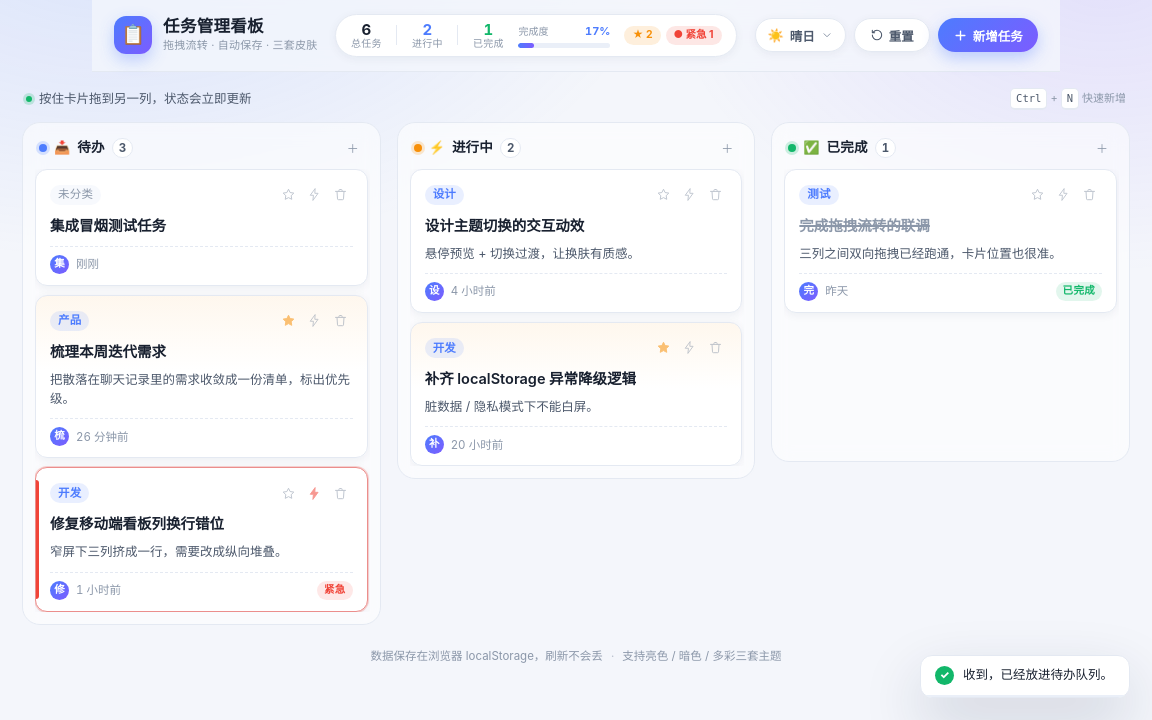
Test case: App 集成冒烟 › 提交空标题时不新增任务，弹窗保留
This screenshot has width=1152, height=720.
Click the button "新增任务": {"x": 988, "y": 35} [938,18,1038,52]
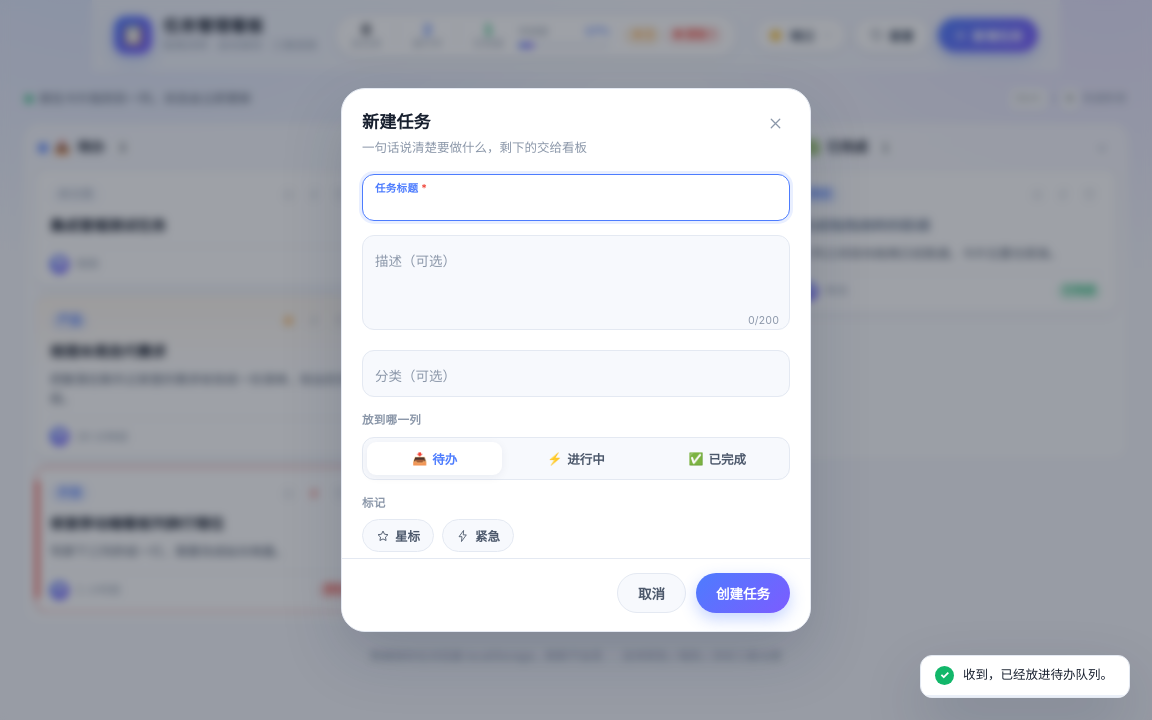
Click the button "创建任务": {"x": 743, "y": 593} [696,573,790,613]
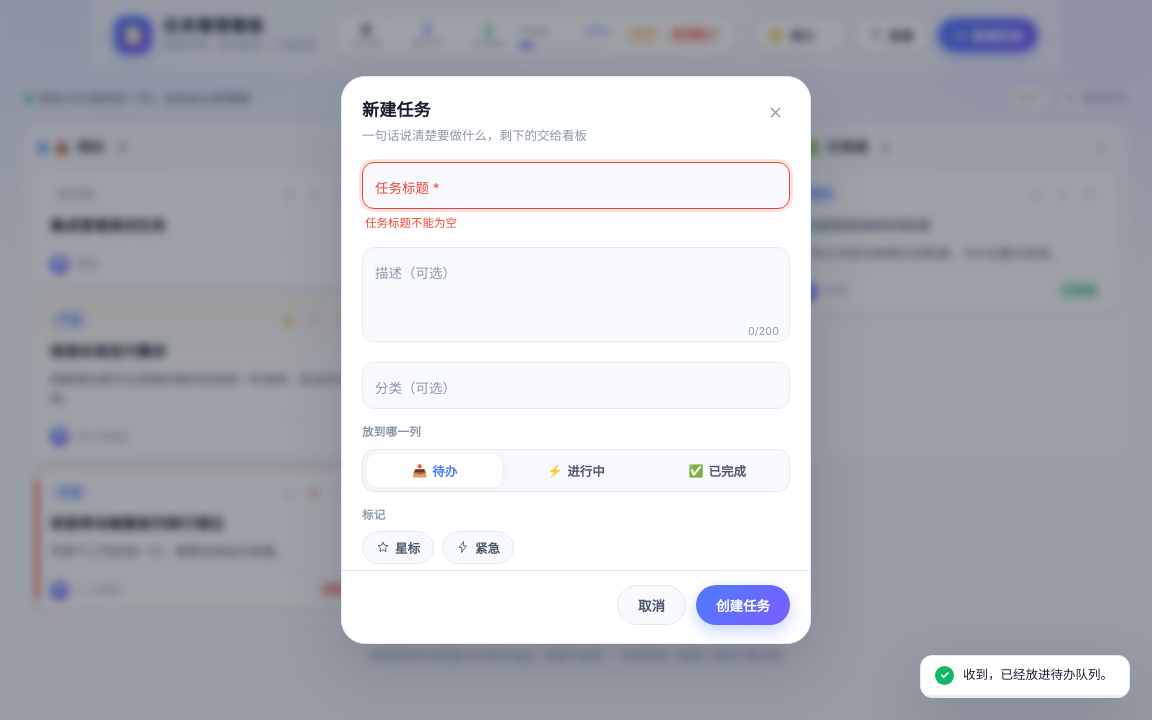
Expected: the number of elements with class "task-card" is 6, [35,168,368,286]; [35,295,368,458]; [35,467,368,612]; [410,168,742,313]; [410,322,742,466]; [784,168,1117,313]
Expected: the dialog with class "modal-card" is shown, [341,76,811,644]
Expected: the text "任务标题不能为空" is shown, [365,216,457,230]
